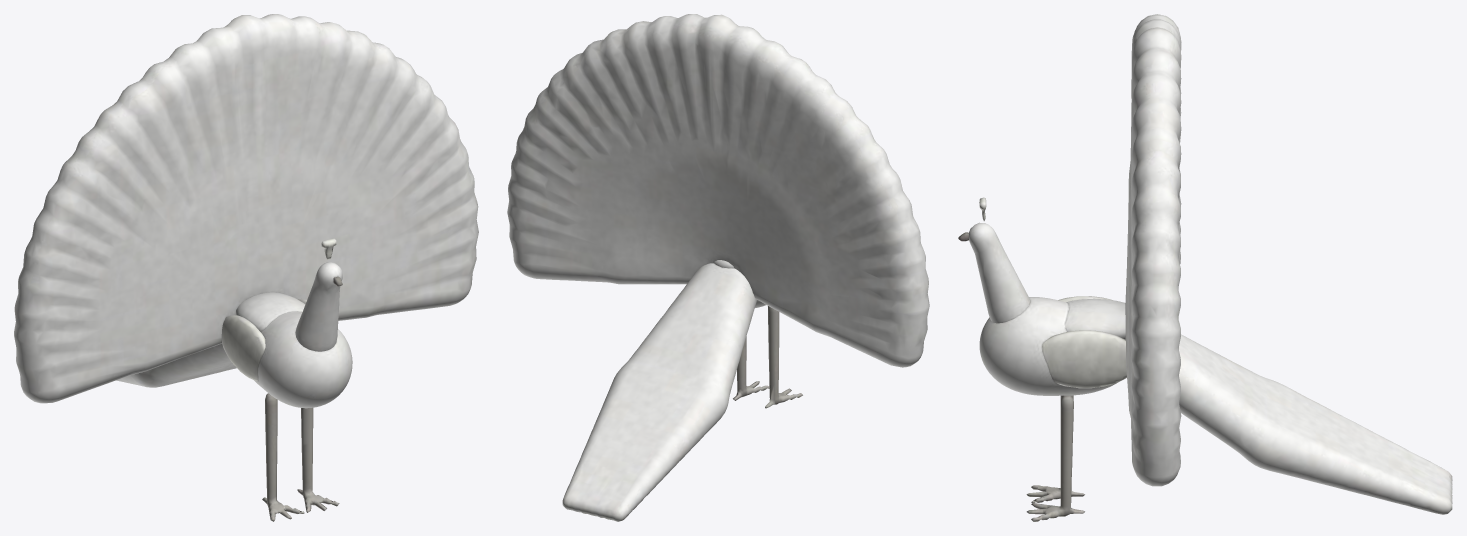
The model's file is animal_white_peacock.glb.
3 views of the same model, side by side, from view 1: azimuth 30°, elevation 25°; view 2: azimuth 150°, elevation 25°; view 3: azimuth 270°, elevation 25° (orthographic). The views are drawn at different scales.
Visible parts, largest first — view 1: fan, animal_white_peacock, head, train, leg0, leg1; view 2: fan, train, leg0, leg1; view 3: fan, train, animal_white_peacock, head, leg1.
Part boxes in pixels (box(x1,y1,x2,y2)): fan: box(14, 14, 478, 403); animal_white_peacock: box(221, 292, 352, 408); head: box(295, 238, 342, 351); train: box(116, 344, 236, 387); leg0: box(262, 393, 304, 521); leg1: box(297, 407, 339, 512); fan: box(507, 14, 929, 367); train: box(562, 263, 756, 521); leg0: box(765, 306, 802, 408); leg1: box(733, 336, 769, 400); fan: box(1125, 14, 1181, 486); train: box(1179, 334, 1452, 514); animal_white_peacock: box(979, 296, 1126, 395); head: box(958, 197, 1030, 323); leg1: box(1026, 395, 1084, 521).
Size of the model in its own units: 0.6165 by 0.5851 by 0.549.
Materials: 1 (1 with a texture image).
